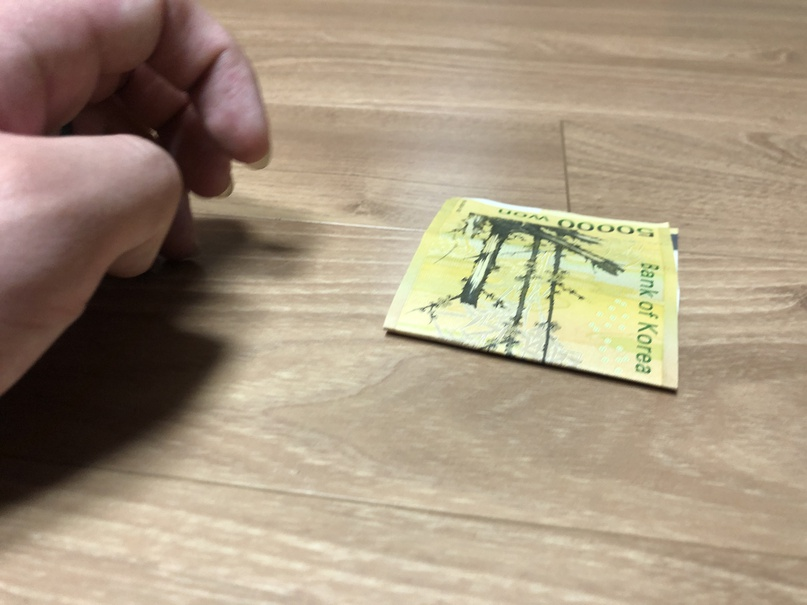50000won: (380, 197, 680, 394)
